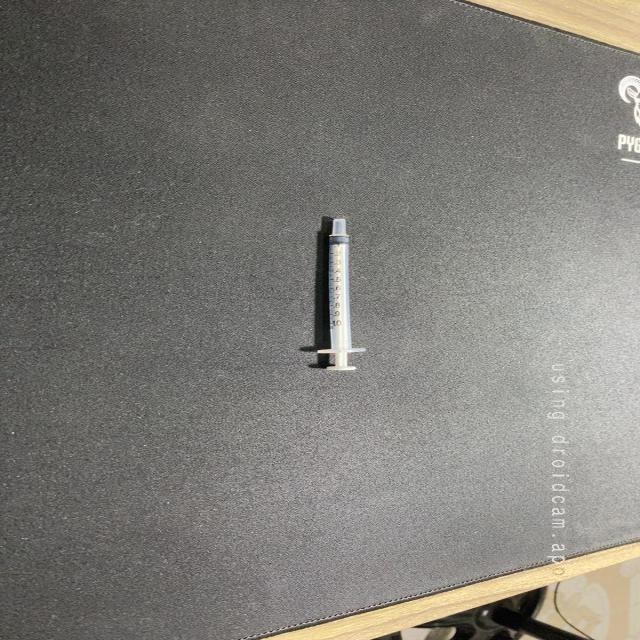syringe: (296, 211, 379, 376)
